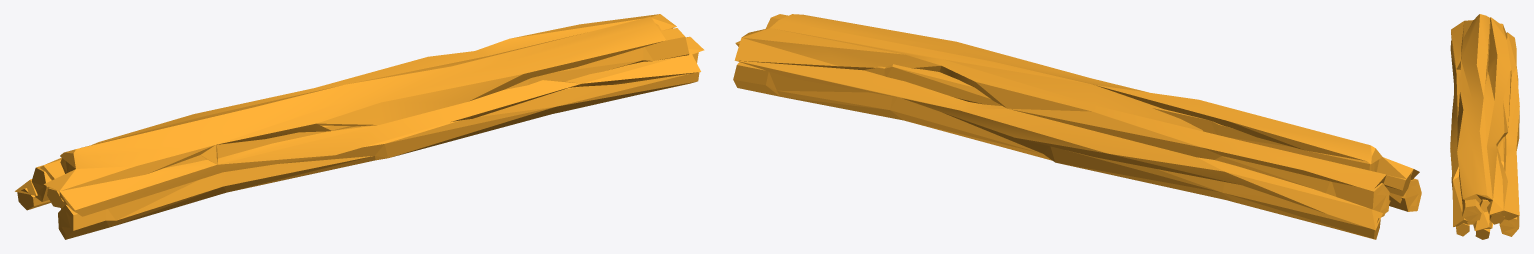
File: SM_Tree_Birch_Log_Pile_A_Snow.fbx
3 renders of one model, left to right at view 1: azimuth 30°, elevation 25°; view 2: azimuth 150°, elevation 25°; view 3: azimuth 270°, elevation 25°, orthographic. The views are drawn at different scales.
Visible parts, largest first — view 1: tree-birch-log-pile-a-snow; view 2: tree-birch-log-pile-a-snow; view 3: tree-birch-log-pile-a-snow.
Boxes of the visible parts, bbox=[...] form: tree-birch-log-pile-a-snow: bbox=[15, 14, 704, 239]; tree-birch-log-pile-a-snow: bbox=[733, 14, 1421, 239]; tree-birch-log-pile-a-snow: bbox=[1450, 14, 1519, 239].
Bounding box in the file's own units: 5.09 × 0.5353 × 0.7622.
